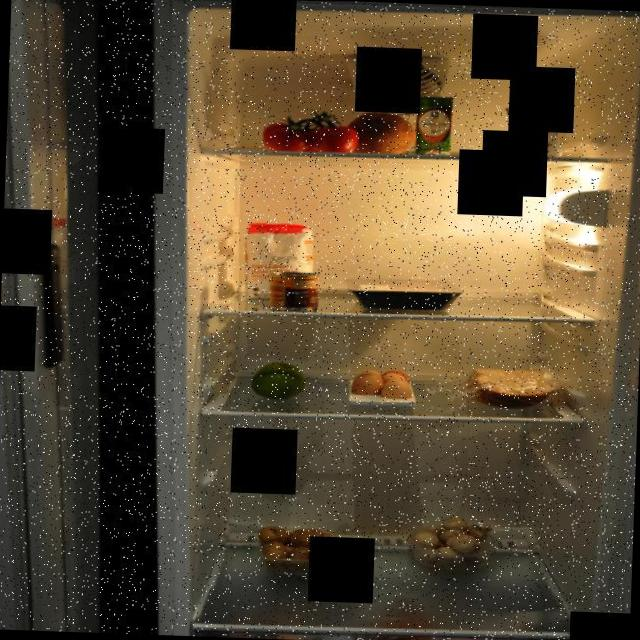Champiñones: (403, 512, 503, 573)
Huevos: (346, 367, 418, 402)
Manzana: (248, 358, 308, 401)
Patata: (254, 522, 341, 574)
Tomate: (258, 106, 359, 155)
